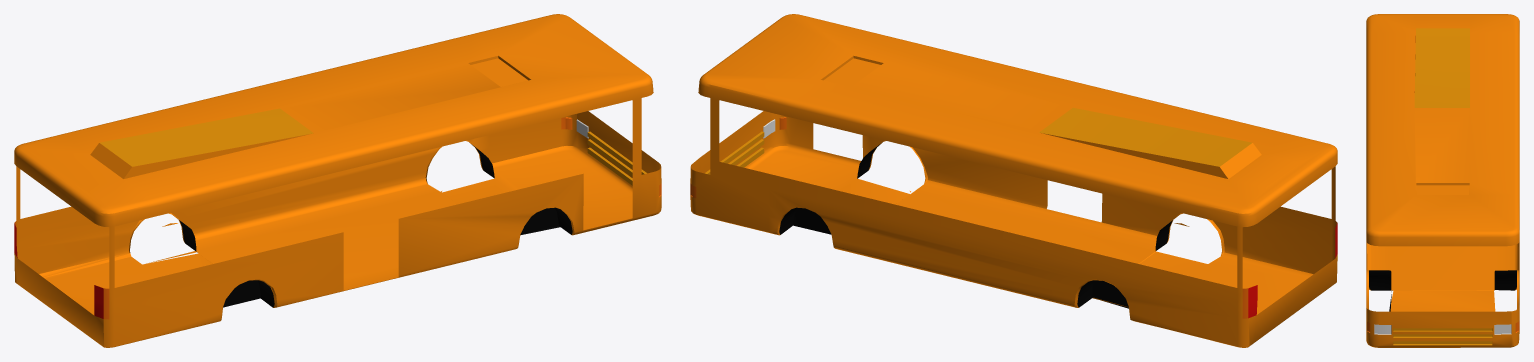
Rendered from bus_model3.fbx.
3 renders of one model, left to right at view 1: azimuth 30°, elevation 25°; view 2: azimuth 150°, elevation 25°; view 3: azimuth 270°, elevation 25°, orthographic. The views are drawn at different scales.
Parts seen in each view (by area): view 1: body; view 2: body; view 3: body.
Part boxes in pixels (x1,y1,x2,y2): body: (14, 14, 661, 347); body: (690, 14, 1337, 347); body: (1366, 14, 1519, 347).
Bounding box in the file's own units: 854 × 214 × 247.
